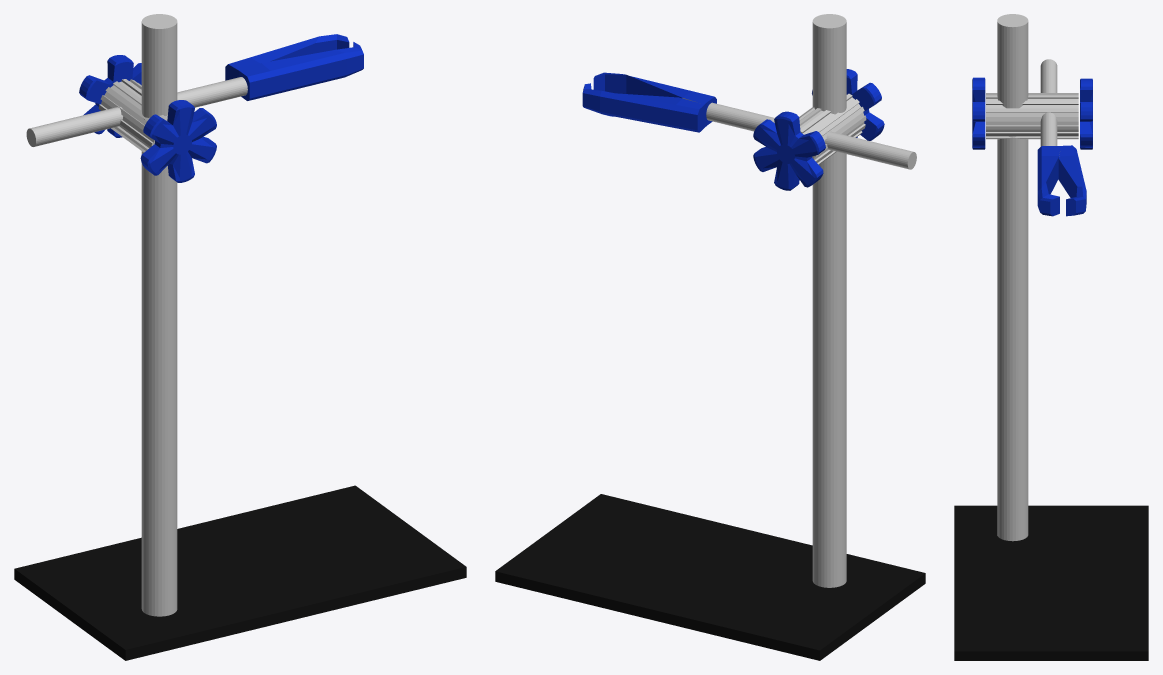
Rendered from Klem.obj.
3 renders of one model, left to right at view 1: azimuth 30°, elevation 25°; view 2: azimuth 150°, elevation 25°; view 3: azimuth 270°, elevation 25°, orthographic. The views are drawn at different scales.
Parts seen in each view (by area): view 1: Cube, Cylinder, Cylinder.004_Cylinder.007, Cylinder.001_Cylinder.006, Cylinder.003_Cylinder.004, Cylinder.005_Cylinder.008, Cylinder.002_Cylinder.003; view 2: Cube, Cylinder, Cylinder.004_Cylinder.007, Cylinder.002_Cylinder.003, Cylinder.005_Cylinder.008, Cylinder.003_Cylinder.004, Cylinder.001_Cylinder.006; view 3: Cube, Cylinder, Cylinder.003_Cylinder.004, Cylinder.004_Cylinder.007, Cylinder.005_Cylinder.008, Cylinder.001_Cylinder.006, Cylinder.002_Cylinder.003.
Part boxes in pixels (left/top/right/bottom): Cube: left=14, top=485, right=466, bottom=660; Cylinder: left=141, top=14, right=177, bottom=616; Cylinder.004_Cylinder.007: left=26, top=42, right=363, bottom=146; Cylinder.001_Cylinder.006: left=140, top=100, right=216, bottom=182; Cylinder.003_Cylinder.004: left=98, top=79, right=167, bottom=152; Cylinder.005_Cylinder.008: left=225, top=34, right=349, bottom=80; Cylinder.002_Cylinder.003: left=79, top=55, right=141, bottom=137; Cube: left=495, top=494, right=925, bottom=660; Cylinder: left=812, top=14, right=846, bottom=587; Cylinder.004_Cylinder.007: left=593, top=72, right=916, bottom=169; Cylinder.002_Cylinder.003: left=753, top=111, right=825, bottom=190; Cylinder.005_Cylinder.008: left=582, top=83, right=706, bottom=132; Cylinder.003_Cylinder.004: left=799, top=93, right=866, bottom=164; Cylinder.001_Cylinder.006: left=812, top=69, right=884, bottom=140; Cube: left=954, top=505, right=1148, bottom=660; Cylinder: left=997, top=14, right=1028, bottom=541; Cylinder.003_Cylinder.004: left=986, top=93, right=1078, bottom=139; Cylinder.004_Cylinder.007: left=1037, top=59, right=1060, bottom=216; Cylinder.005_Cylinder.008: left=1058, top=145, right=1086, bottom=216; Cylinder.001_Cylinder.006: left=972, top=77, right=985, bottom=149; Cylinder.002_Cylinder.003: left=1080, top=78, right=1092, bottom=149.
Bounding box in the file's own units: 8.95 × 13.43 × 4.52.
